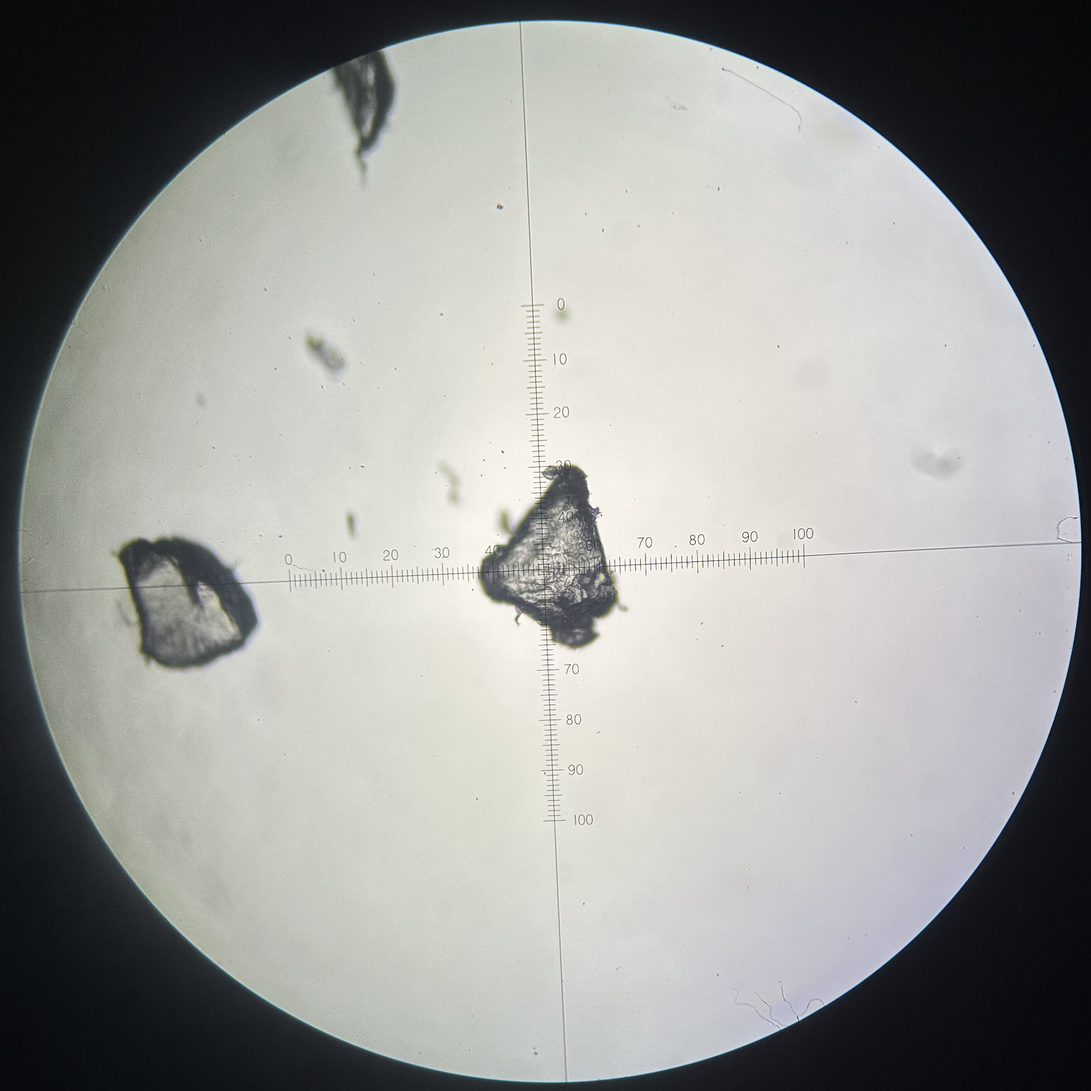microplastic: (479, 464, 629, 650), (110, 537, 261, 672), (329, 48, 397, 178), (304, 334, 346, 374), (438, 462, 463, 503), (346, 514, 355, 536), (557, 310, 567, 320), (496, 203, 505, 210)
